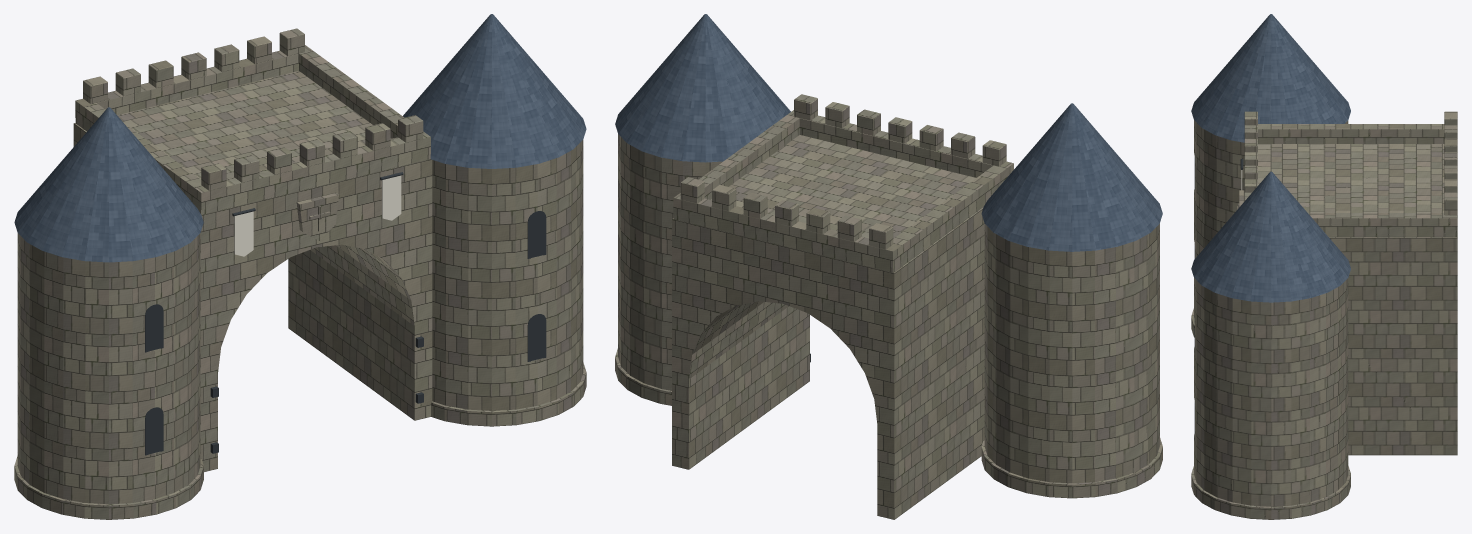
File: Furn_Gatehouse.fbx
The picture shows the model from 3 angles, left to right: view 1: azimuth 30°, elevation 25°; view 2: azimuth 150°, elevation 25°; view 3: azimuth 270°, elevation 25°; orthographic projection. The views are drawn at different scales.
Visible parts, largest first — view 1: Furn_Gatehouse_Mesh; view 2: Furn_Gatehouse_Mesh; view 3: Furn_Gatehouse_Mesh.
Boxes of the visible parts, box(x1,y1,x2,y2) form: Furn_Gatehouse_Mesh: box(14, 14, 586, 519); Furn_Gatehouse_Mesh: box(615, 14, 1162, 519); Furn_Gatehouse_Mesh: box(1191, 14, 1457, 519).
Bounding box in the file's own units: 20 × 13 × 10.
